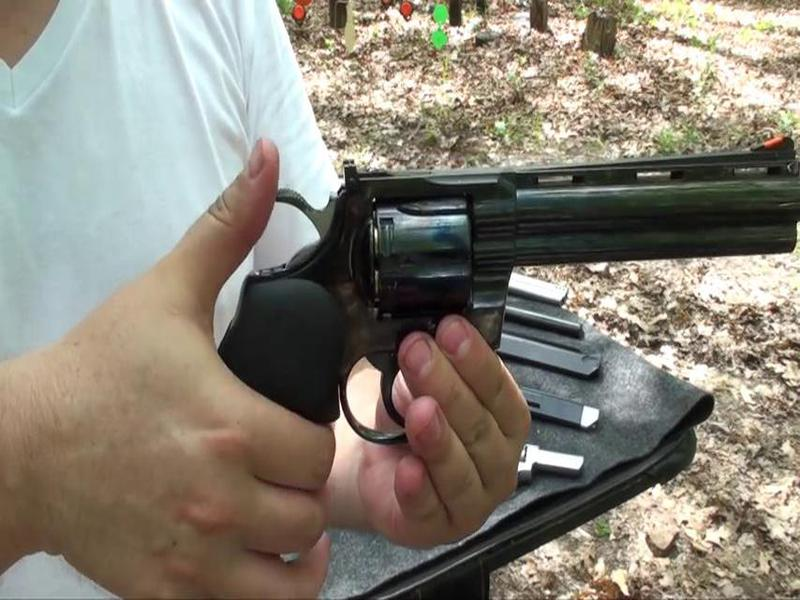Revolver: (223, 123, 800, 402)
